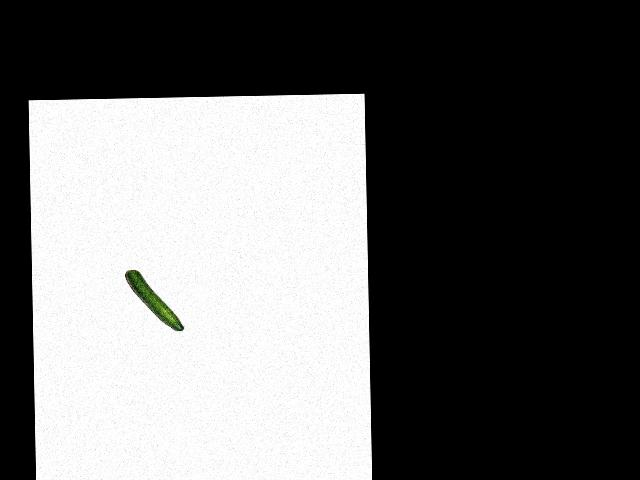cucumber: (125, 268, 184, 332)
